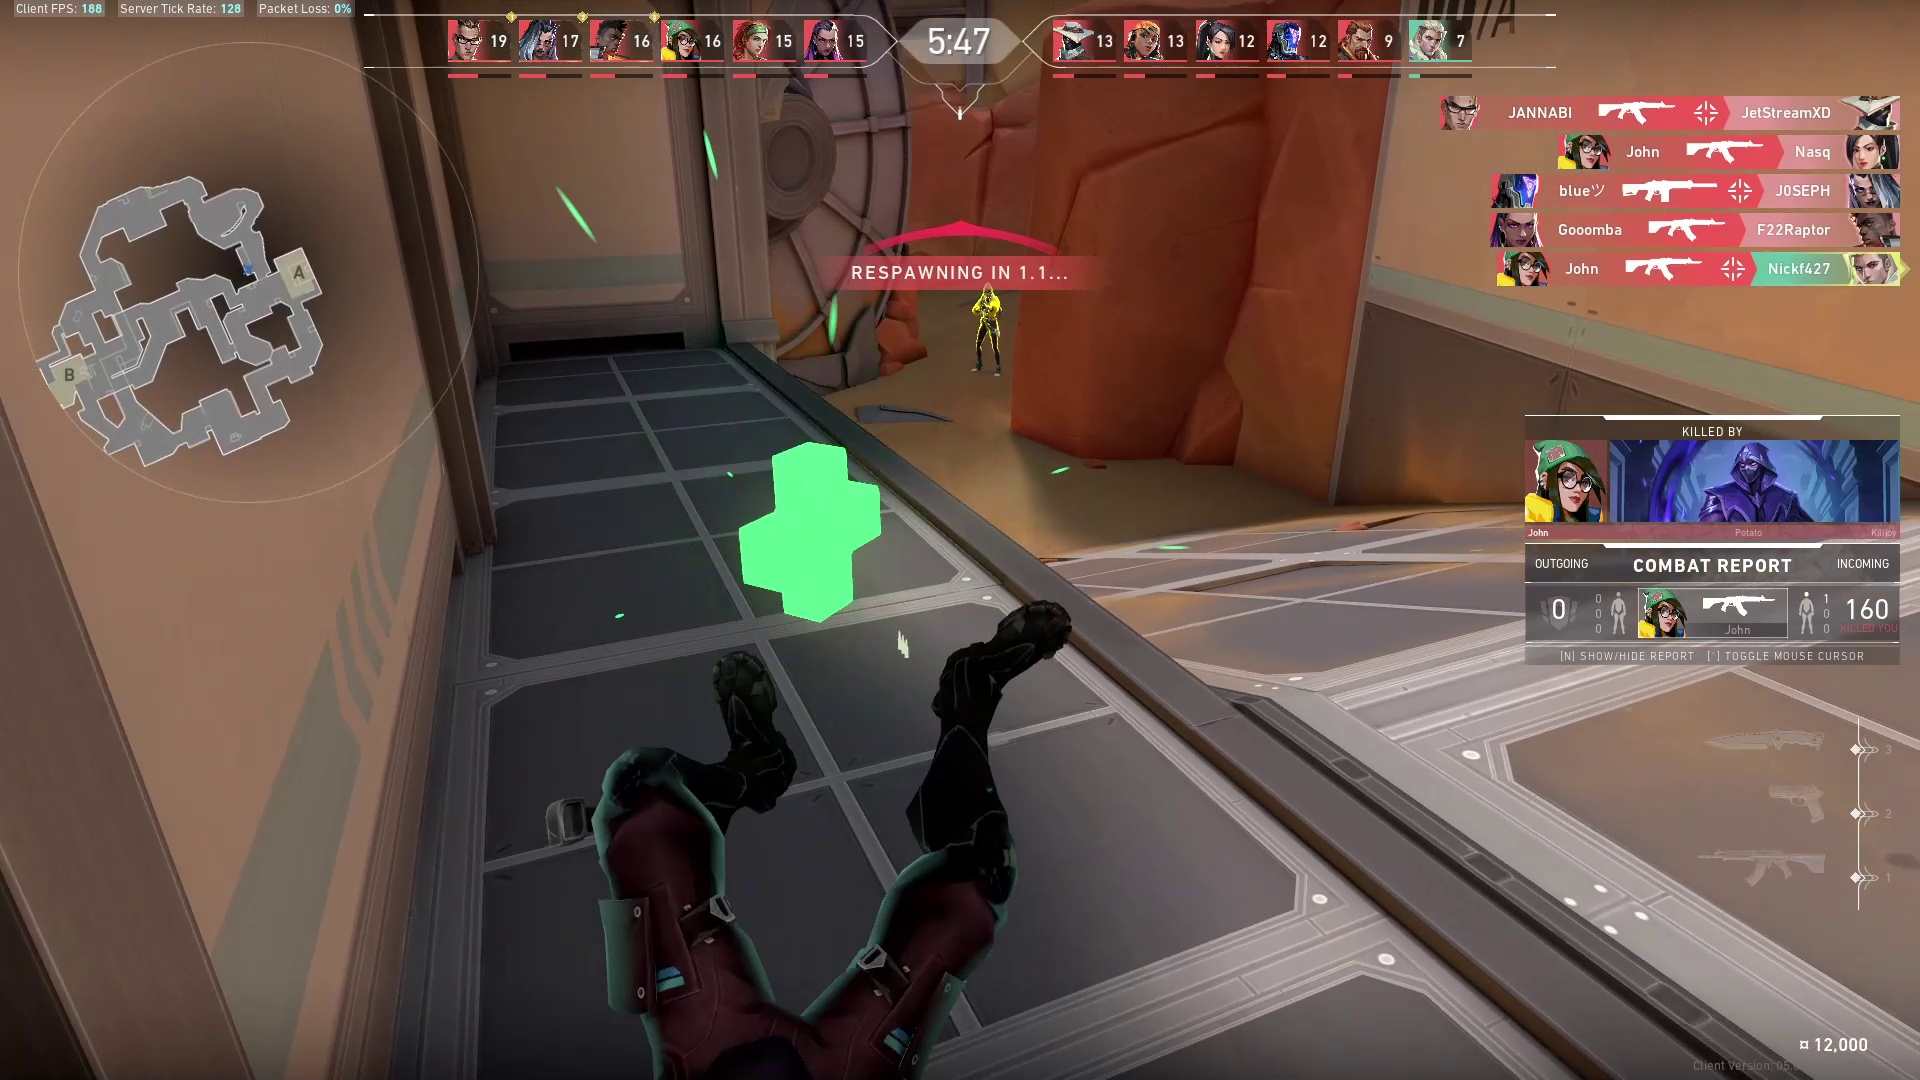enemy_body: (973, 298, 1004, 378)
enemy_head: (978, 281, 996, 298)
